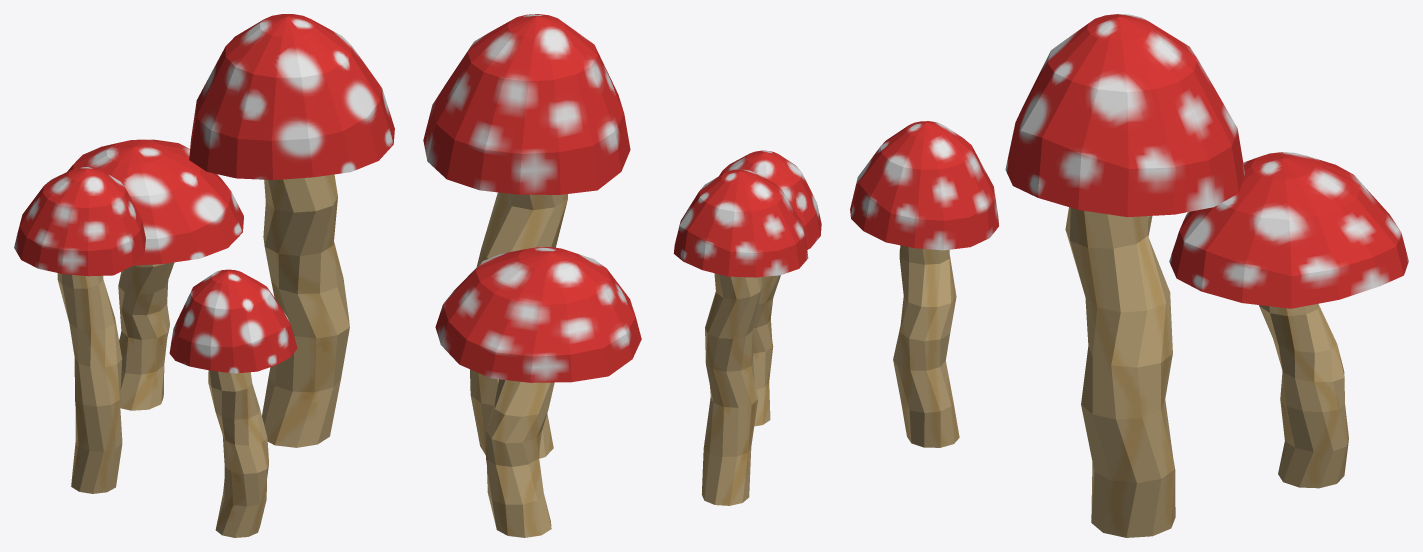
The model's file is OfficeandEnv_Cogumelos.fbx.
The picture shows the model from 3 angles, left to right: view 1: azimuth 30°, elevation 25°; view 2: azimuth 150°, elevation 25°; view 3: azimuth 270°, elevation 25°; orthographic projection. The views are drawn at different scales.
Parts seen in each view (by area): view 1: CogumeloAlto, CogumeloFino, CogumeloAchatado, CogumeloPequeno; view 2: CogumeloAlto, CogumeloAchatado, CogumeloFino, CogumeloPequeno; view 3: CogumeloAlto, CogumeloAchatado, CogumeloPequeno.
Boxes of the visible parts, x1=… form: CogumeloAlto: x1=189, y1=14, x2=394, y2=447; CogumeloFino: x1=14, y1=167, x2=145, y2=493; CogumeloAchatado: x1=67, y1=139, x2=243, y2=410; CogumeloPequeno: x1=169, y1=269, x2=297, y2=537; CogumeloAlto: x1=423, y1=14, x2=630, y2=458; CogumeloAchatado: x1=435, y1=247, x2=641, y2=537; CogumeloFino: x1=673, y1=169, x2=808, y2=505; CogumeloPequeno: x1=719, y1=150, x2=821, y2=426; CogumeloAlto: x1=1005, y1=14, x2=1244, y2=537; CogumeloAchatado: x1=1169, y1=152, x2=1408, y2=488; CogumeloPequeno: x1=850, y1=121, x2=998, y2=447.
Size of the model in its own units: 51.44 by 58.21 by 59.19.
Materials: 1 (1 with a texture image).
